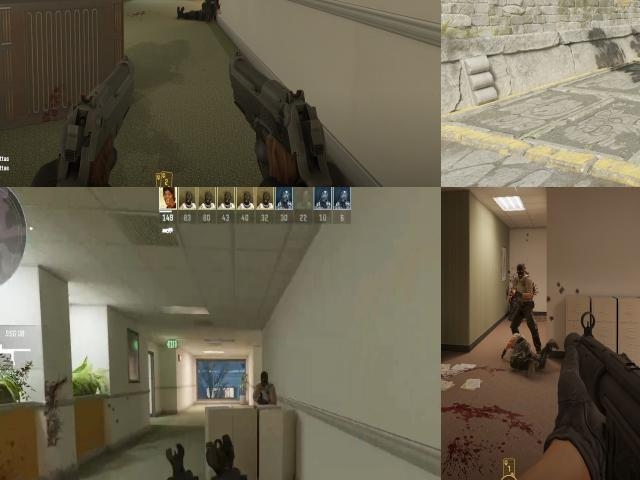Dead: (505, 334, 544, 382), (175, 0, 219, 24), (507, 304, 514, 317)
T: (516, 263, 532, 331), (256, 368, 276, 406)
T-Head: (257, 371, 273, 384), (517, 265, 525, 276)
